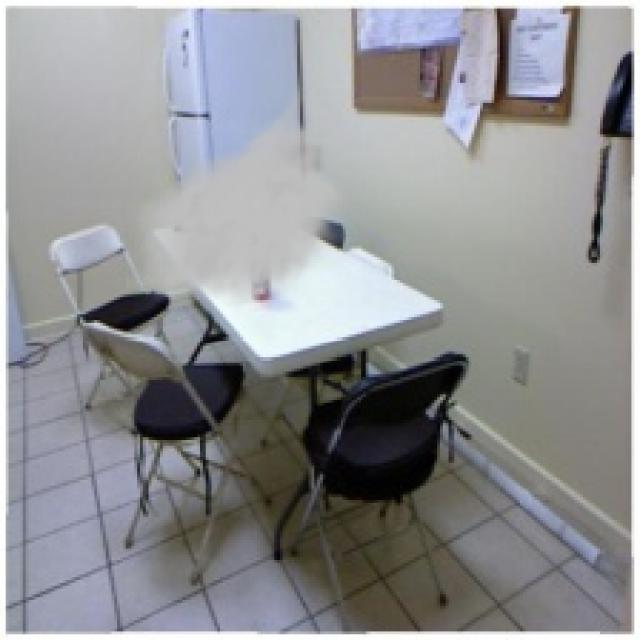Smoke: (122, 80, 352, 312)
